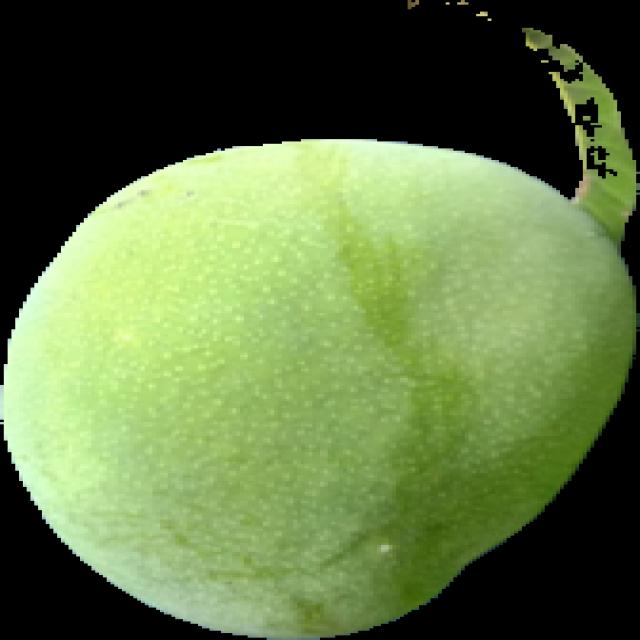Mango-sano: (0, 28, 639, 639)
